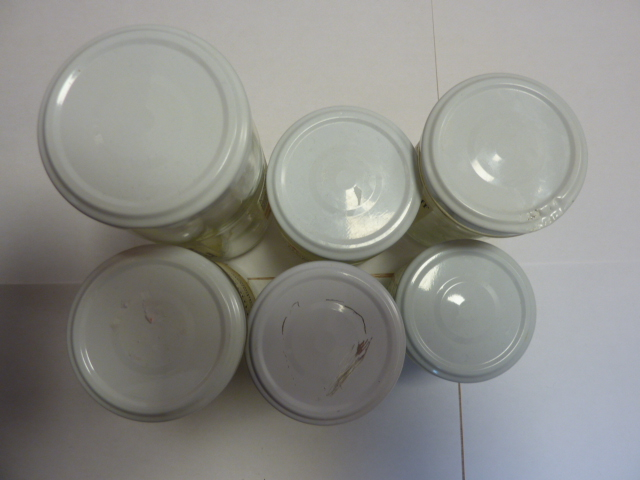damaged: (246, 262, 403, 424)
intact: (399, 239, 538, 383)
